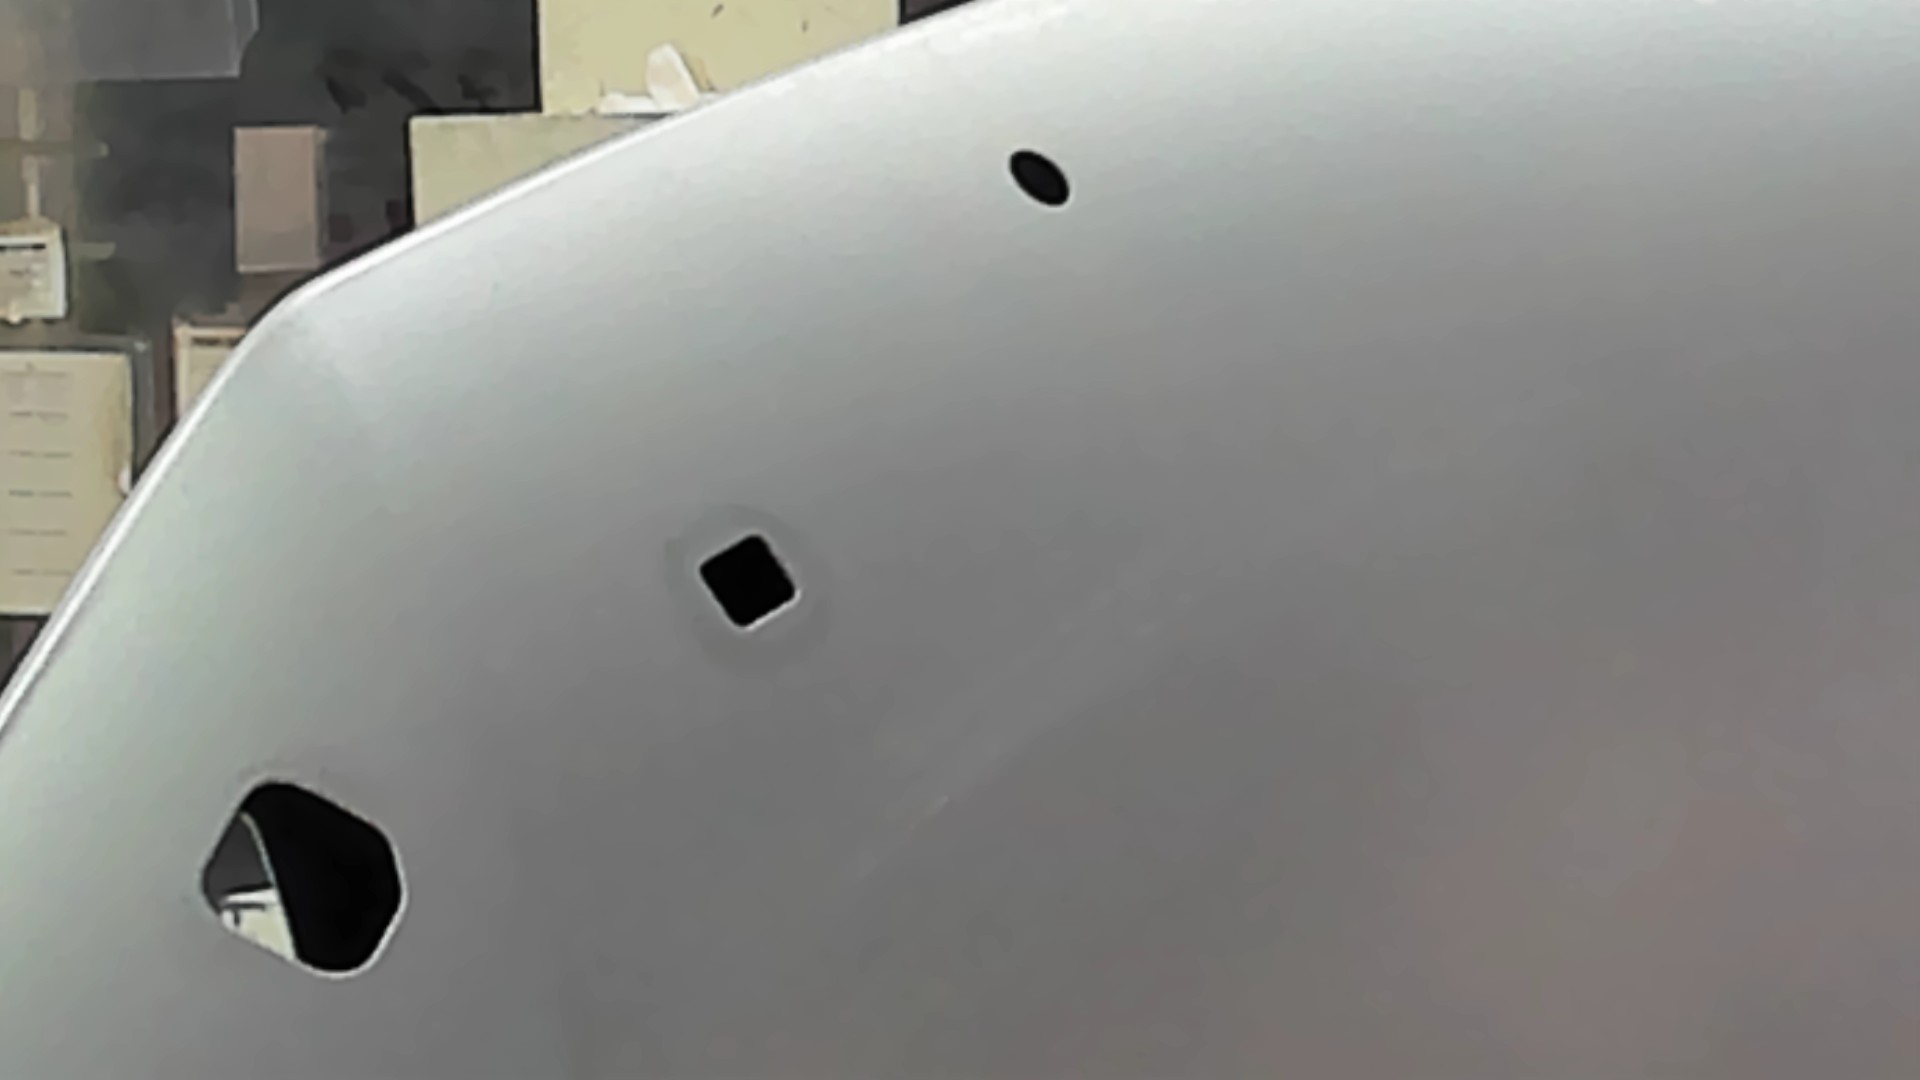chico: (1002, 141, 1075, 214)
grande: (196, 769, 414, 981)
mediano: (691, 524, 807, 641)
